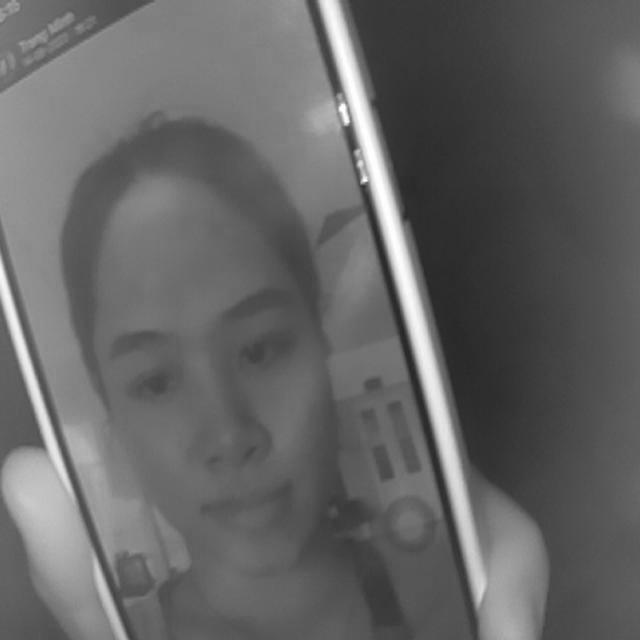fake: (3, 1, 503, 640)
